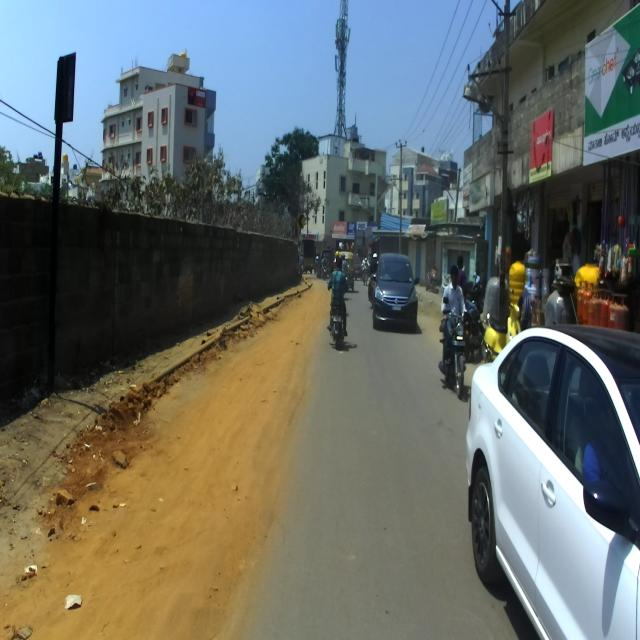car ahead at: (467, 324, 640, 640), (370, 246, 420, 332)
motorcycle ahead at: (327, 294, 354, 353)
